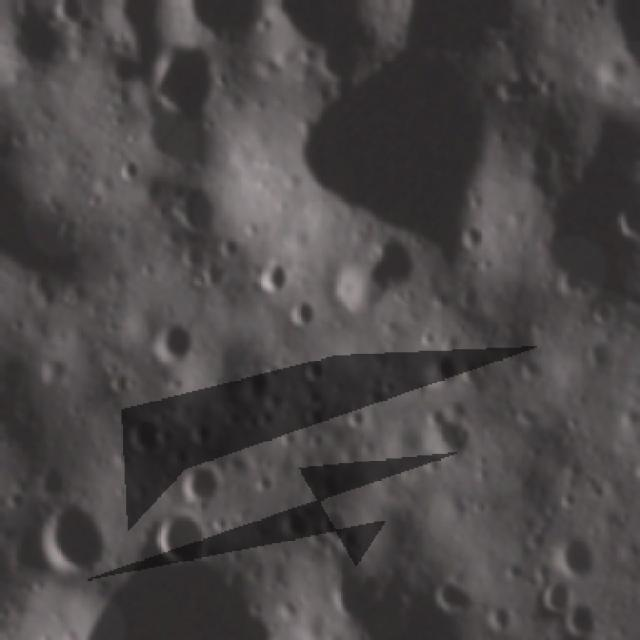crater: (318, 230, 418, 316), (25, 492, 109, 583), (142, 36, 230, 121), (0, 0, 72, 80), (160, 178, 228, 242), (147, 503, 210, 569), (143, 310, 200, 368), (236, 244, 296, 298), (174, 457, 223, 514), (117, 408, 166, 464), (554, 529, 601, 585), (426, 572, 474, 617), (529, 569, 574, 616), (272, 500, 313, 546), (278, 288, 320, 332), (557, 598, 601, 640), (313, 504, 353, 547), (607, 192, 640, 239), (296, 352, 332, 388), (105, 156, 143, 189), (453, 221, 489, 253), (588, 299, 620, 332)
